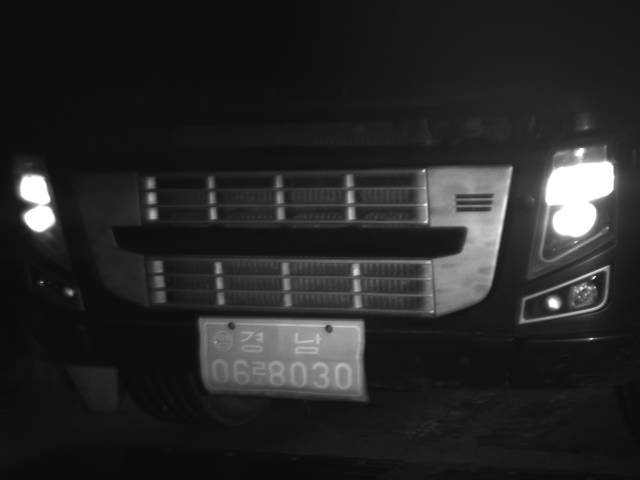car: (8, 1, 639, 425)
plate: (199, 318, 366, 399)
